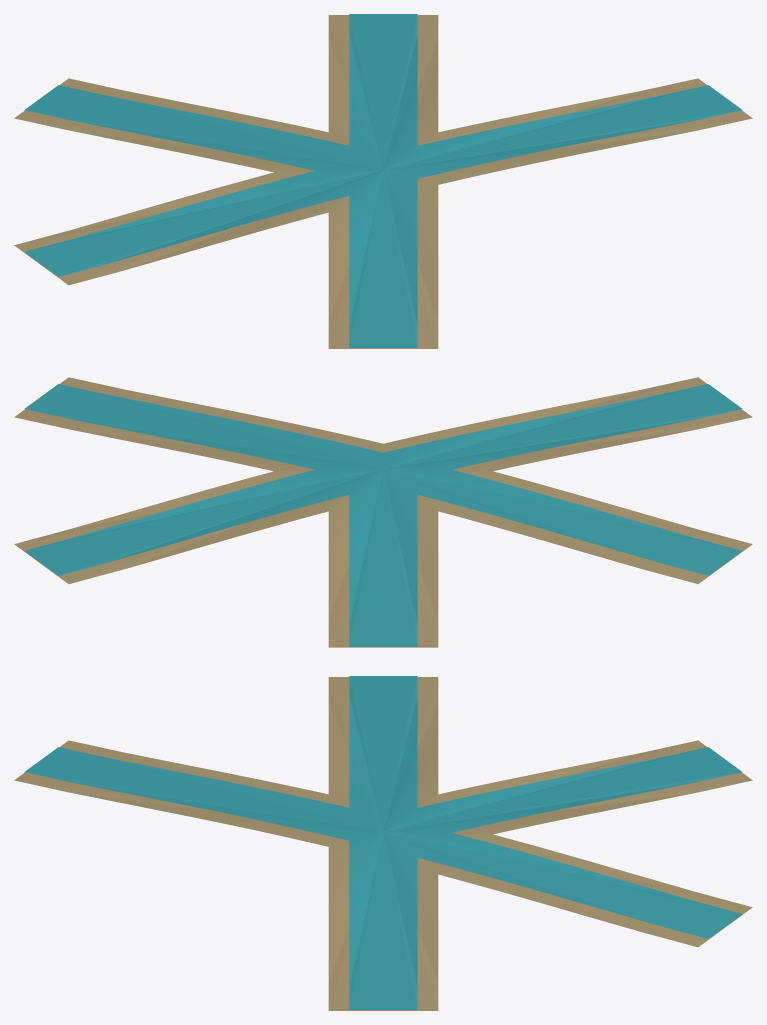
The model's file is RIVER_31.fbx.
3 views of the same model, one above another, from view 1: azimuth 30°, elevation 25°; view 2: azimuth 150°, elevation 25°; view 3: azimuth 270°, elevation 25° (orthographic).
Parts seen in each view (by area): view 1: Channel_surface.023, Channel_surface.022; view 2: Channel_surface.023, Channel_surface.022; view 3: Channel_surface.023, Channel_surface.022.
Boxes of the visible parts, box(x1,y1,x2,y2) form: Channel_surface.023: box(24, 14, 742, 347); Channel_surface.022: box(14, 15, 752, 348); Channel_surface.023: box(24, 384, 742, 646); Channel_surface.022: box(14, 377, 752, 647); Channel_surface.023: box(24, 676, 742, 1009); Channel_surface.022: box(14, 677, 752, 1010).
Bounding box in the file's own units: 173 × 2.8 × 162.
